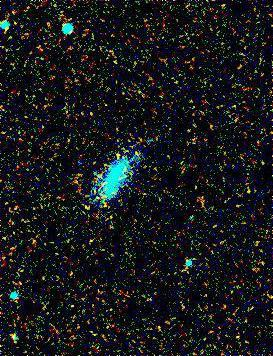star: (106, 139, 136, 169)
